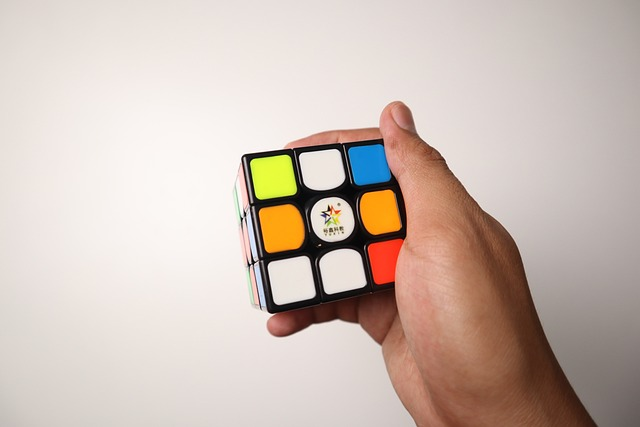cube: (231, 138, 414, 315)
